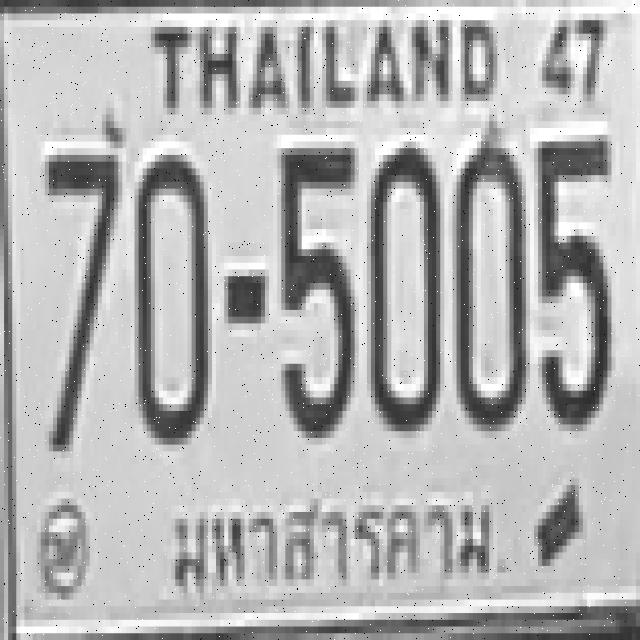0: (132, 148, 206, 438), (452, 134, 522, 424), (366, 142, 436, 424)
5: (277, 144, 351, 434), (534, 131, 608, 421)
7: (41, 148, 118, 444), (41, 148, 118, 357)
MahaSarakham: (158, 485, 508, 613)
